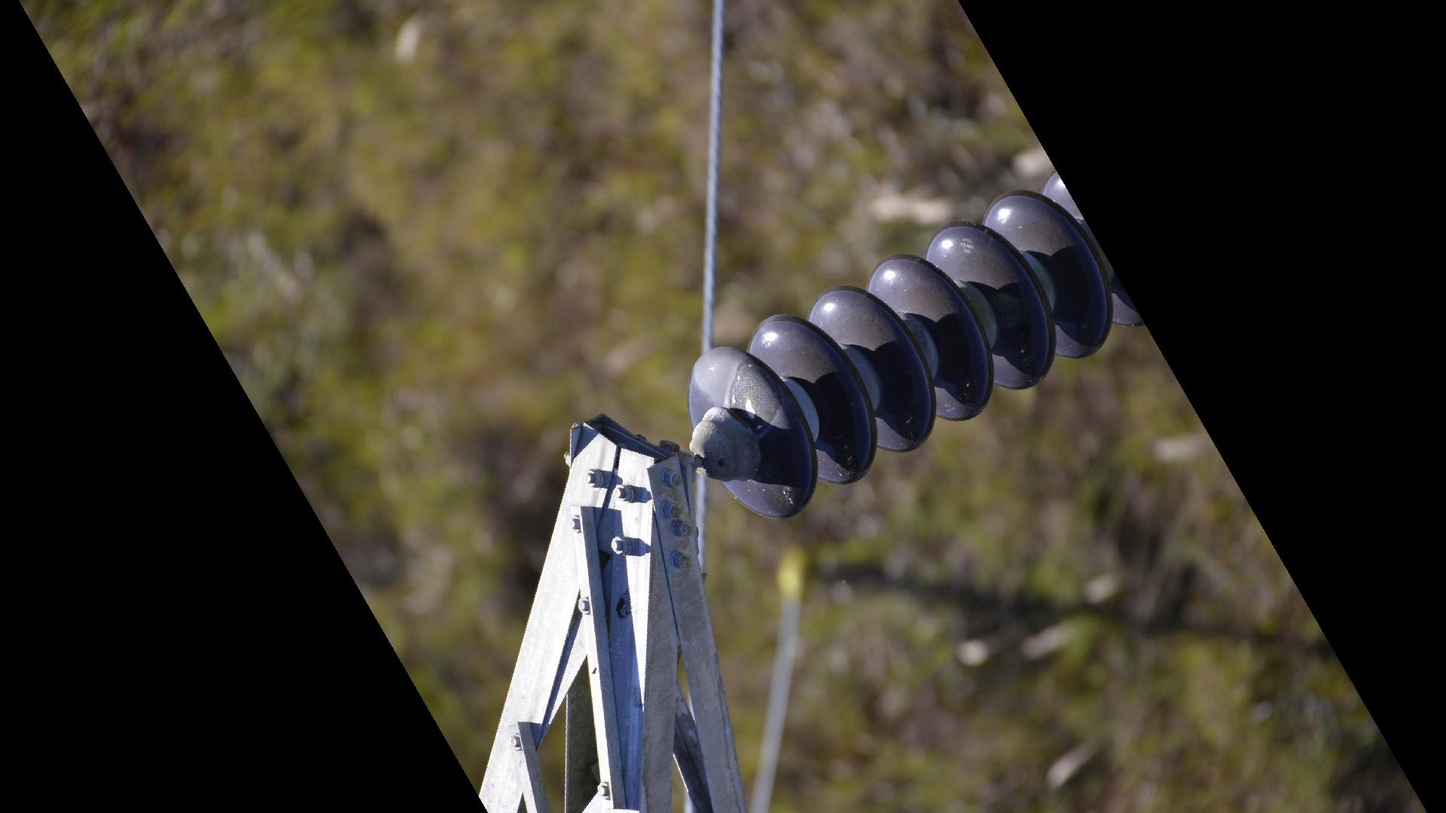insulator: (680, 168, 1146, 524)
insulator_flashover: (723, 354, 789, 437)
